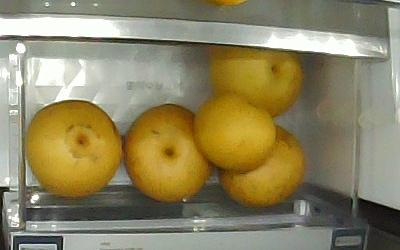pear: (26, 100, 123, 198), (125, 104, 213, 203), (217, 124, 309, 209), (207, 46, 305, 117), (193, 92, 277, 174)
